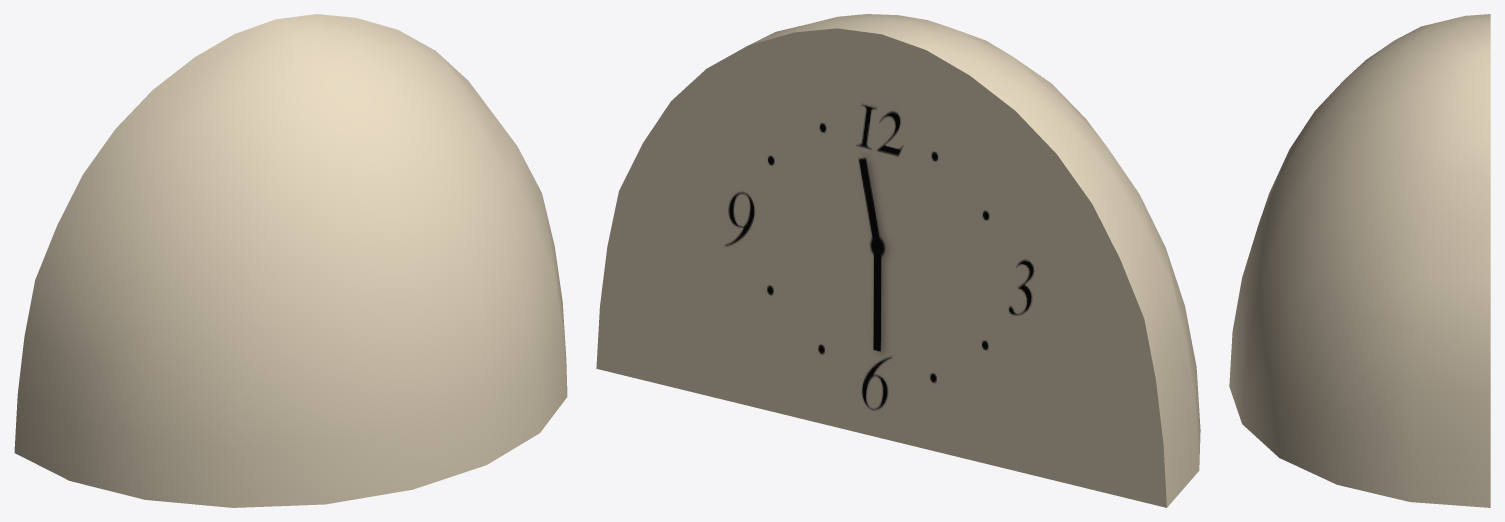
Rendered from clock003.fbx.
3 views of the same model, side by side, from view 1: azimuth 30°, elevation 25°; view 2: azimuth 150°, elevation 25°; view 3: azimuth 270°, elevation 25° (orthographic). The views are drawn at different scales.
Visible parts, largest first — view 1: pSphere1; view 2: pSphere1; view 3: pSphere1.
Part boxes in pixels (x1,y1,x2,y2): pSphere1: (14,14,567,507); pSphere1: (596,14,1200,507); pSphere1: (1229,14,1490,507).
Size of the model in its own units: 3.04 by 2.06 by 1.38.
Materials: 1 (1 with a texture image).
